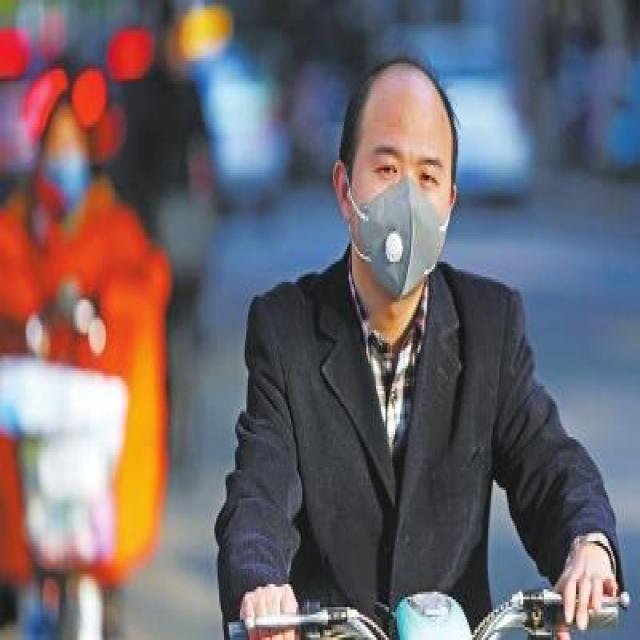mask: (358, 92, 445, 294)
